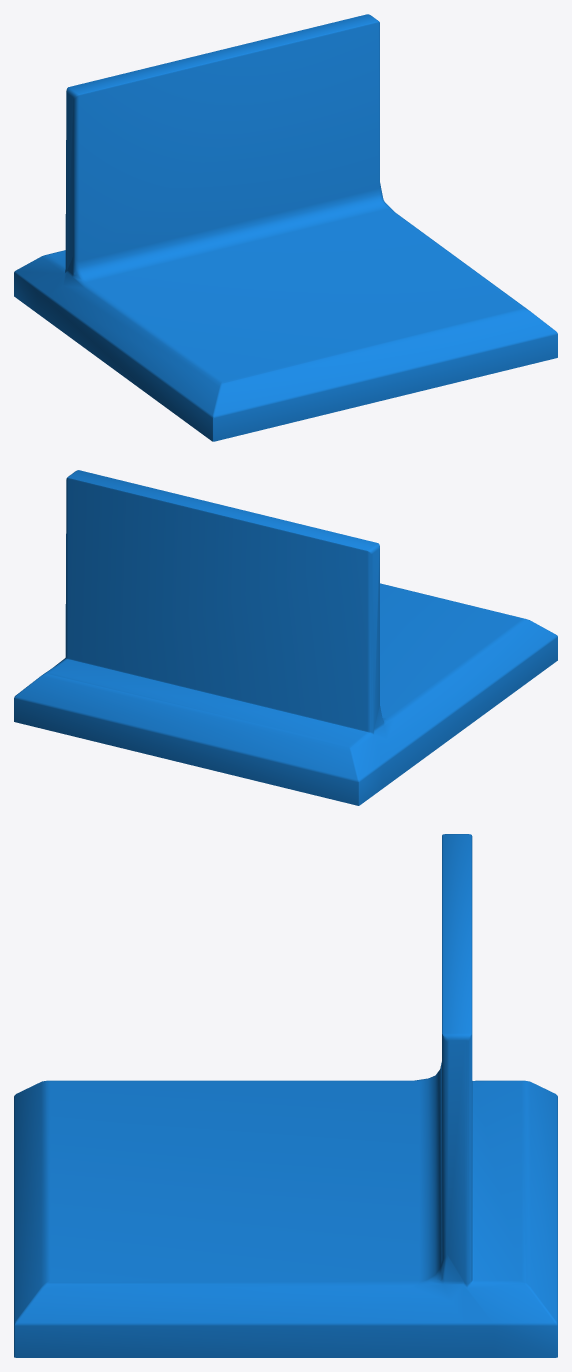
File: PlatfornForCharacter.fbx
3 views of the same model, one above another, from view 1: azimuth 30°, elevation 25°; view 2: azimuth 150°, elevation 25°; view 3: azimuth 270°, elevation 25° (orthographic). The views are drawn at different scales.
Visible parts, largest first — view 1: Platform; view 2: Platform; view 3: Platform.
Part boxes in pixels (x1,y1,x2,y2): Platform: [14, 14, 557, 441]; Platform: [14, 470, 557, 805]; Platform: [14, 834, 557, 1357].
Size of the model in its own units: 4 by 2.51 by 4.
